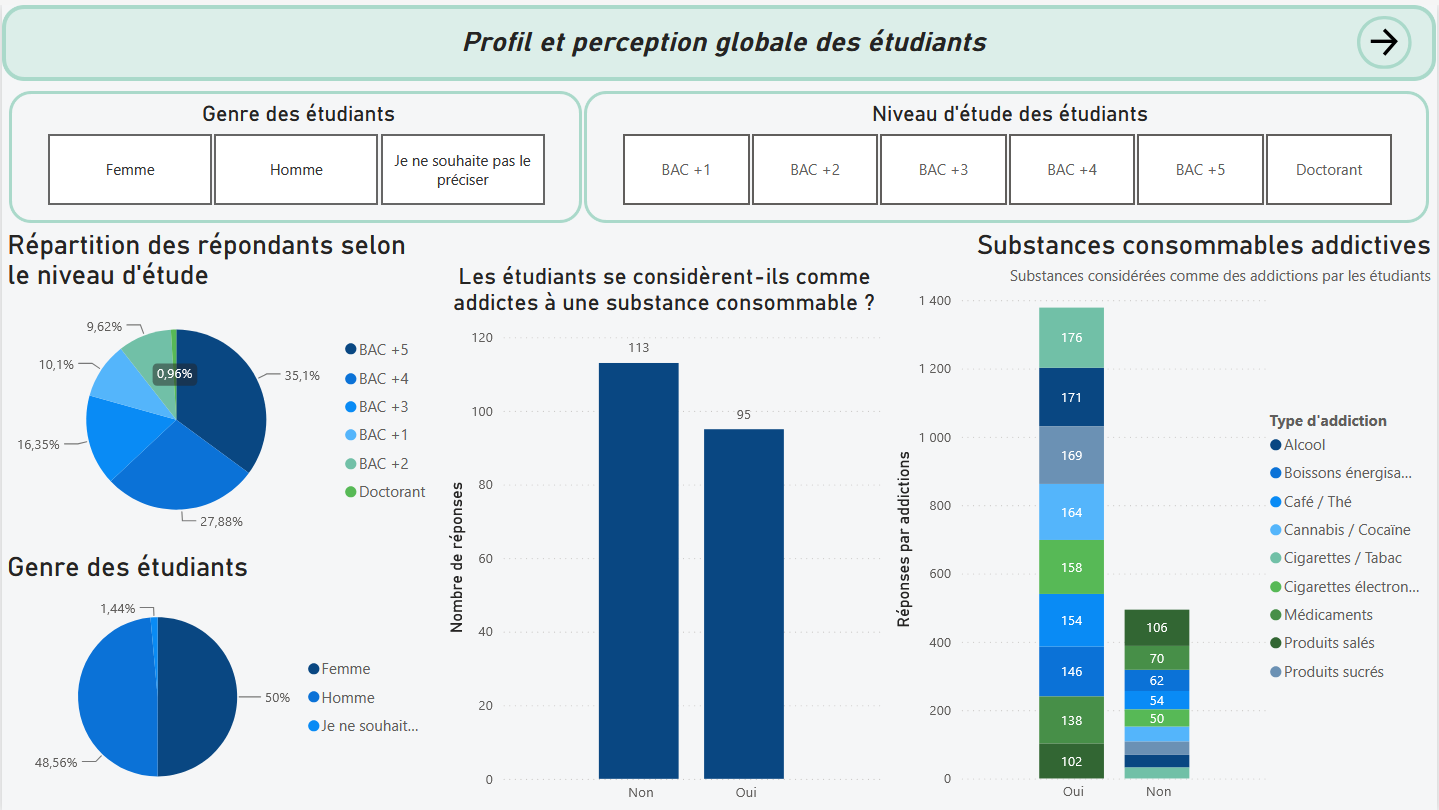

The dashboard page shown, as its layout file describes it:
{"tool":"powerbi","page":{"name":"Informations descriptives","canvas":[1280,720],"ordinal":1},"visuals":[{"type":"pieChart","title":"Répartition des répondants selon le niveau d''étude ","fields":{"Category":["DIM_ANNEE_ETUDE.Libbelé étude supérieure"],"Y":["CountNonNull(REPONDANT.Id étude supérieure)"]},"box":[0,200.2,392.3,286.4],"z":0},{"type":"pieChart","title":"Genre des étudiants","fields":{"Category":["DIM_GENRE.Libellé genre"],"Y":["CountNonNull(REPONDANT.Id genre)"]},"box":[0,487,392,233],"z":1000},{"type":"columnChart","title":"Les étudiants se considèrent-ils comme addictes à une substance consommable ?","fields":{"Category":["FACT_REPONDANT.Considérez-vous être une personne addicte à une substance consommable ?"],"Y":["CountNonNull(FACT_REPONDANT.Considérez-vous être une personne addicte à une substance consommable ?)"]},"box":[392,230,399,490],"z":2000},{"type":"columnChart","title":"Substances consommables addictives","fields":{"Category":["DIM_Addictions.Valeur"],"Series":["DIM_Addictions.Attribut"],"Y":["CountNonNull(DIM_Addictions.Attribut)"]},"box":[790.9,200.2,489.3,519.8],"z":3000},{"type":"textbox","title":"Profil et perception globale des étudiants","box":[0,0,1279,68],"z":4000},{"type":"slicer","title":"Genre des étudiants ","fields":{"Values":["DIM_GENRE.Libellé genre"]},"box":[6.3,76.3,510.8,117.6],"z":5000},{"type":"slicer","title":"Niveau d''étude des étudiants","fields":{"Values":["DIM_ANNEE_ETUDE.Libbelé étude supérieure"]},"box":[518.9,76.3,754.1,117.6],"z":6000},{"type":"actionButton","box":[1208.5,9.8,48.8,47.2],"z":7000}]}

Visuals, with their boxes in screenshot pixels (x1, y1, x2, y2), scaled from the page's 1280x720 canvas onto the 1439x810 screenshot:
"Répartition des répondants selon le niveau d''étude " pieChart: locate(0, 225, 441, 547)
"Genre des étudiants" pieChart: locate(0, 548, 441, 809)
"Les étudiants se considèrent-ils comme addictes à une substance consommable ?" columnChart: locate(441, 259, 889, 809)
"Substances consommables addictives" columnChart: locate(889, 225, 1438, 809)
"Profil et perception globale des étudiants" textbox: locate(0, 0, 1438, 76)
"Genre des étudiants " slicer: locate(7, 86, 581, 218)
"Niveau d''étude des étudiants" slicer: locate(583, 86, 1431, 218)
actionButton: locate(1359, 11, 1413, 64)
